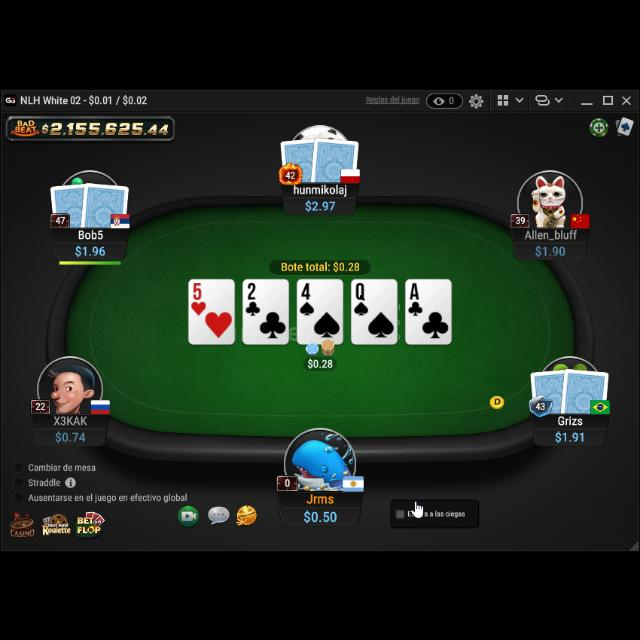2c: (244, 280, 262, 316)
4s: (298, 278, 316, 316)
5h: (190, 280, 208, 314)
6h: (190, 280, 208, 314)
Ac: (408, 282, 424, 316)
Qs: (352, 279, 370, 315)
bet_text: (306, 354, 334, 368)
card_back: (310, 132, 362, 182), (560, 364, 610, 416), (80, 178, 130, 228), (48, 178, 94, 228), (278, 135, 322, 183), (528, 366, 570, 414)
dealer: (487, 390, 507, 408)
pot_text: (280, 258, 360, 270)
stack_text: (303, 506, 339, 522), (74, 240, 106, 256), (304, 195, 336, 209), (534, 241, 566, 255), (554, 428, 586, 442), (54, 426, 86, 439)
